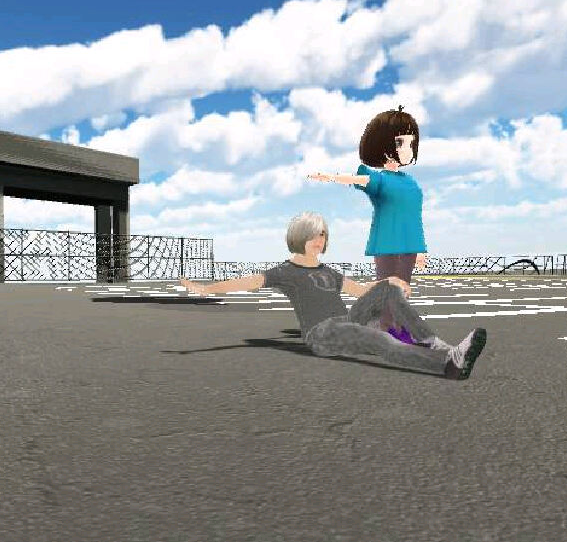doubleP_left: (176, 109, 489, 376)
